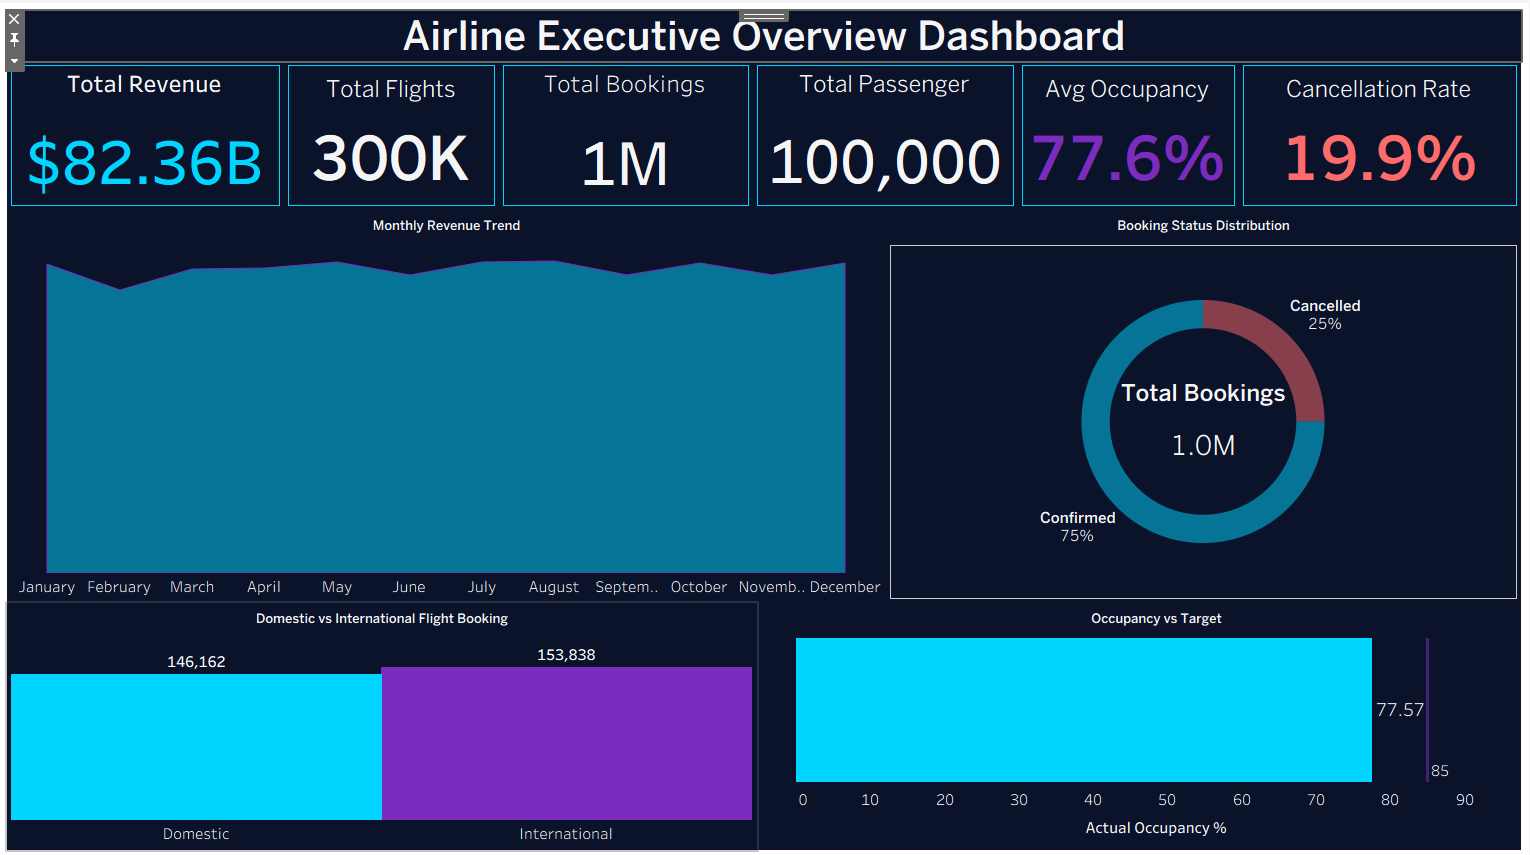

The dashboard page shown, as its layout file describes it:
{"tool":"tableau","page":{"name":"Airline Executive Overview Dashboard","canvas":[1530,855],"ordinal":1},"visuals":[{"type":"title","box":[8,8,1514,50]},{"type":"dashboard-object","box":[30,13,106,39]},{"type":"worksheet","title":"KPI - Total Revenue","mark":"Automatic","box":[8,58,277,149]},{"type":"worksheet","title":"KPI - Total Flights","mark":"Automatic","box":[285,58,215,149]},{"type":"worksheet","title":"KPI - Total Bookings","mark":"Automatic","box":[500,58,254,149]},{"type":"worksheet","title":"KPI - Passengers","mark":"Automatic","box":[754,58,265,149]},{"type":"worksheet","title":"KPI - Occupancy","mark":"Automatic","box":[1019,58,221,149]},{"type":"worksheet","title":"KPI - Cancellation Rate","mark":"Automatic","box":[1240,58,282,149]},{"type":"worksheet","title":"Revenue Trend","mark":"Area","rows":["revenue"],"cols":["month_name"],"box":[8,207,879,393]},{"type":"worksheet","title":"Booking Status Donut","mark":"Pie","rows":["Calculation_1997820878884867","Calculation_1997820878946309"],"box":[887,207,635,393]},{"type":"worksheet","title":"Domestic vs International Flights","mark":"Bar","rows":["flight_id"],"cols":["route_type"],"box":[8,600,749.9,247]},{"type":"blank","box":[757.9,600,34.7,247]},{"type":"worksheet","title":"Occupancy vs Target","mark":"Bar","cols":["Calculation_2536856540753920"],"box":[792.6,600,729.4,247]}]}

Visuals, with their boxes on the page's 1530x855 design canvas (x1, y1, x2, y2). These are canvas units, not pixel positions in the 1530x855 screenshot, which may show the page scaled, cropped or inside an application window:
title: rect(8, 8, 1522, 58)
dashboard-object: rect(30, 13, 136, 52)
"KPI - Total Revenue" worksheet: rect(8, 58, 285, 207)
"KPI - Total Flights" worksheet: rect(285, 58, 500, 207)
"KPI - Total Bookings" worksheet: rect(500, 58, 754, 207)
"KPI - Passengers" worksheet: rect(754, 58, 1019, 207)
"KPI - Occupancy" worksheet: rect(1019, 58, 1240, 207)
"KPI - Cancellation Rate" worksheet: rect(1240, 58, 1522, 207)
"Revenue Trend" worksheet (Area marks): rect(8, 207, 887, 600)
"Booking Status Donut" worksheet (Pie marks): rect(887, 207, 1522, 600)
"Domestic vs International Flights" worksheet (Bar marks): rect(8, 600, 758, 847)
blank: rect(758, 600, 793, 847)
"Occupancy vs Target" worksheet (Bar marks): rect(793, 600, 1522, 847)
